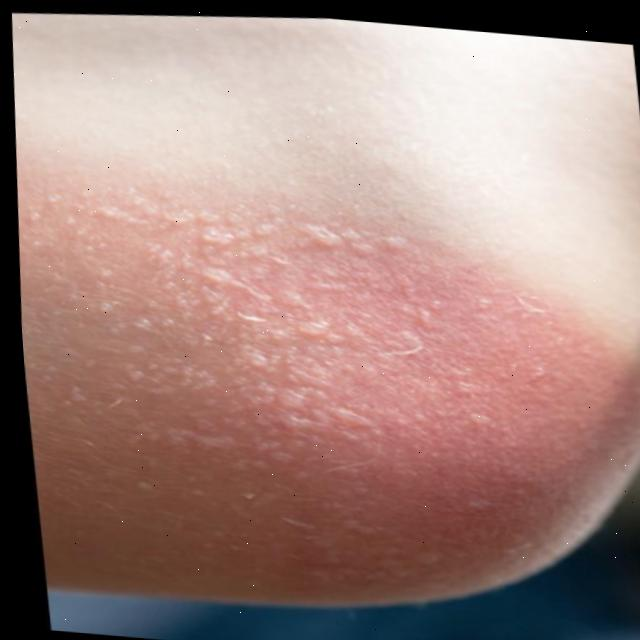Eczema: (89, 157, 640, 616)
